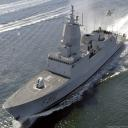Fragata: (1, 4, 90, 126)
